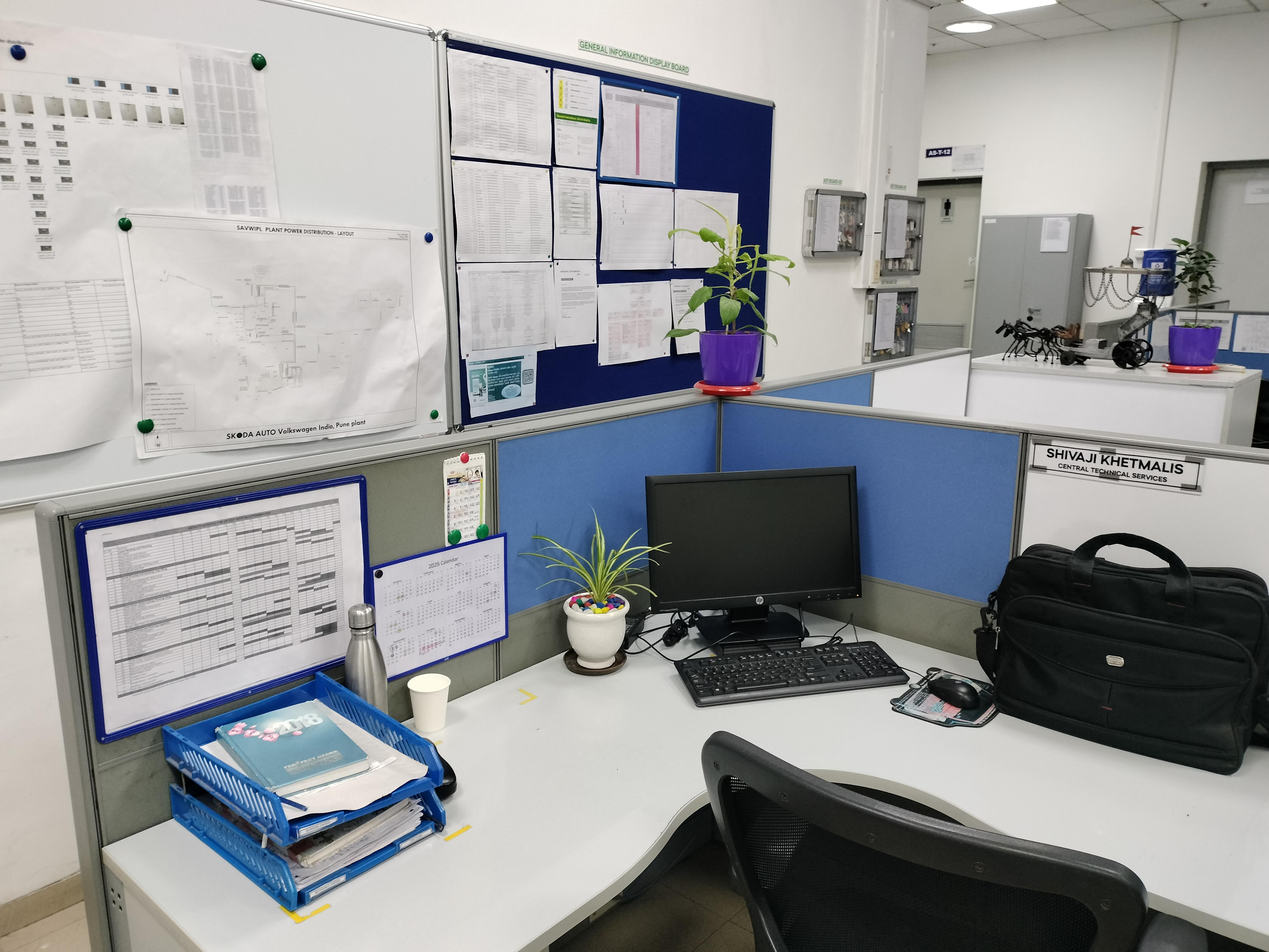bag: (968, 528, 1269, 772)
bottle: (341, 606, 392, 717)
calender: (441, 452, 486, 553)
desktop: (643, 463, 865, 644)
file: (78, 479, 375, 743)
filetray: (158, 669, 446, 915)
keyboard: (673, 643, 907, 707)
mouse: (926, 678, 980, 711)
nameplate: (1028, 435, 1205, 498)
page: (373, 533, 511, 679)
